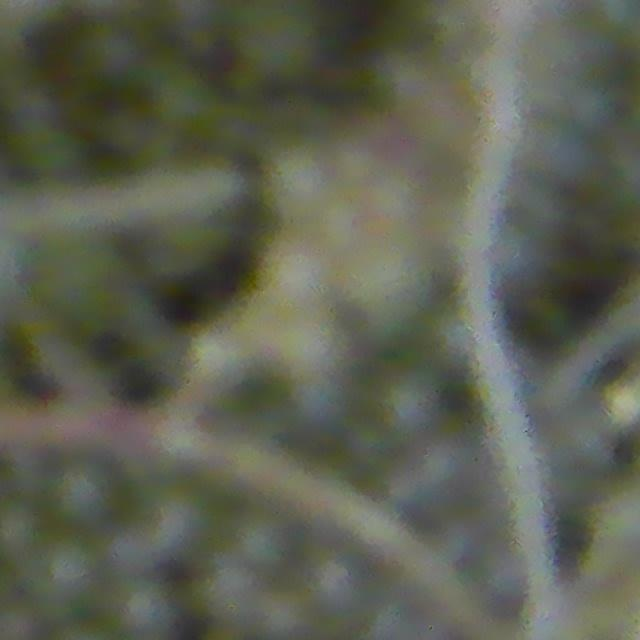SeaGrape: (233, 0, 323, 85), (137, 478, 221, 569), (33, 535, 103, 613), (264, 144, 336, 218), (300, 554, 367, 630), (42, 468, 112, 539), (75, 21, 146, 90), (220, 521, 295, 586), (109, 584, 175, 640), (0, 499, 44, 564)
